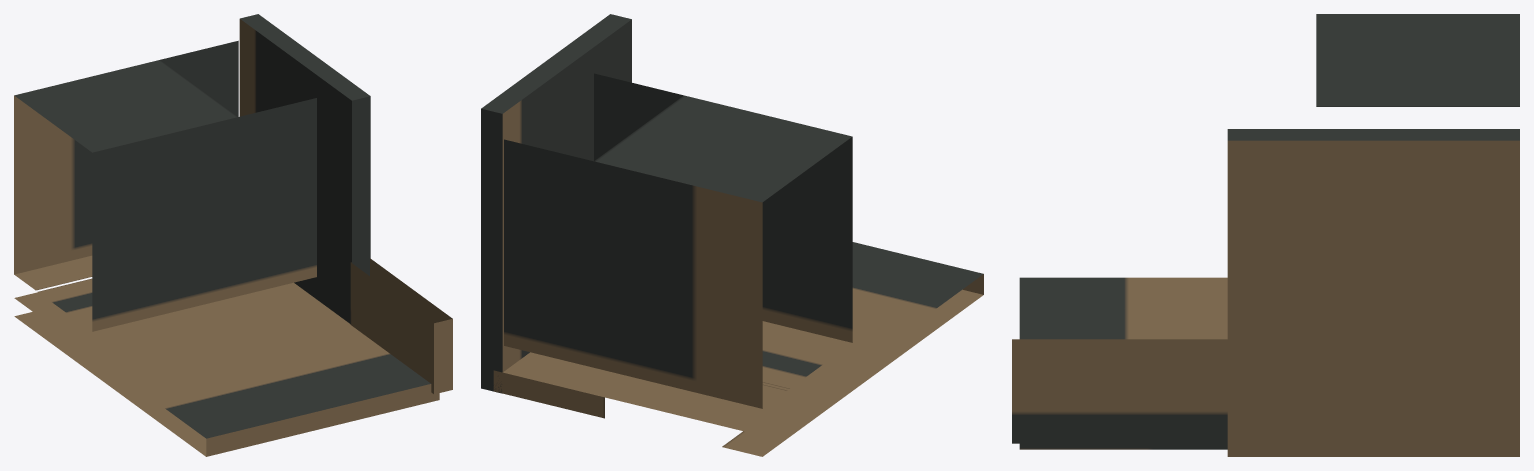
File: section-5.obj
3 renders of one model, left to right at view 1: azimuth 30°, elevation 25°; view 2: azimuth 150°, elevation 25°; view 3: azimuth 270°, elevation 25°, orthographic. The views are drawn at different scales.
Bounding box in the file's own units: 0.8278 × 0.7867 × 1.14.
